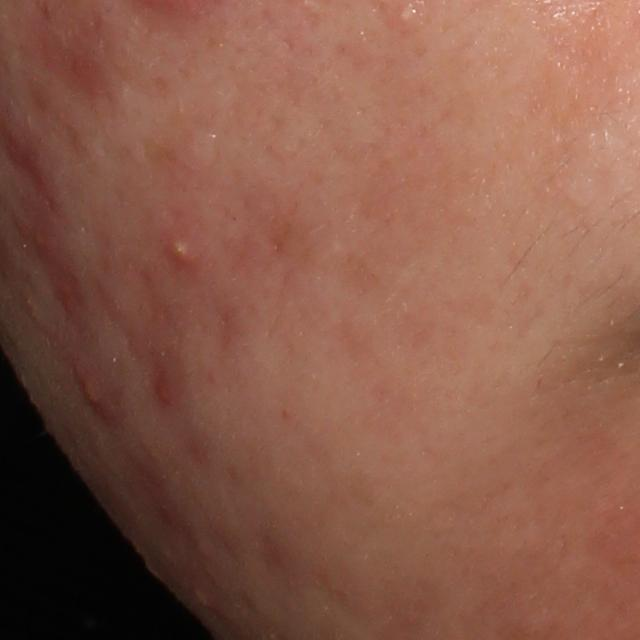papule: (31, 221, 60, 262)
pustule: (168, 233, 202, 274)
